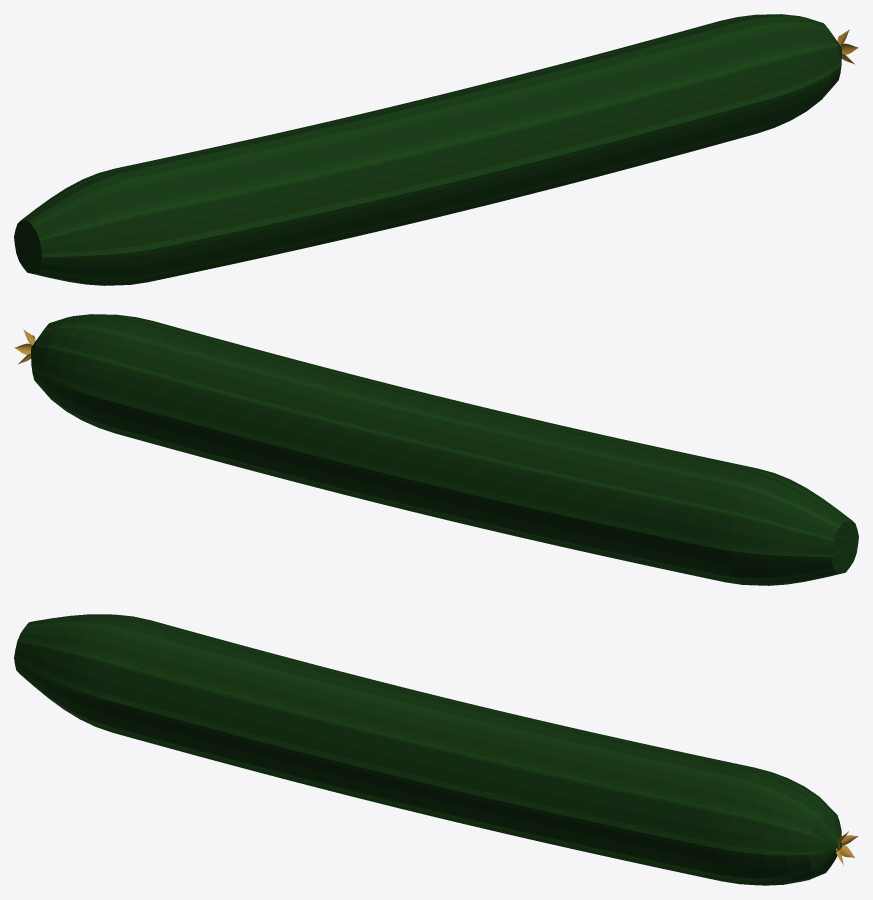
The model's file is fruit_01.obj.
The picture shows the model from 3 angles, top to bottom: view 1: azimuth 30°, elevation 25°; view 2: azimuth 150°, elevation 25°; view 3: azimuth 330°, elevation 25°; orthographic projection.
Size of the model in its own units: 1.01 by 0.1355 by 0.1288.
Materials: 1 (1 with a texture image).
